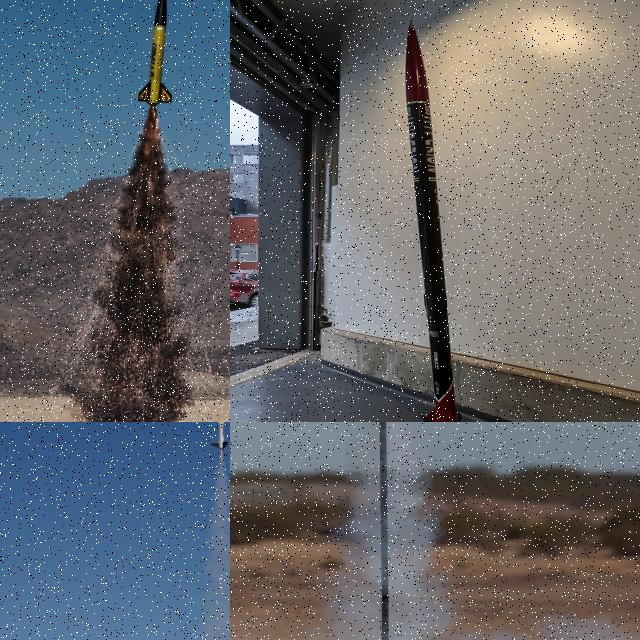Rocket: (405, 18, 462, 422), (137, 0, 173, 107), (210, 422, 228, 449)
